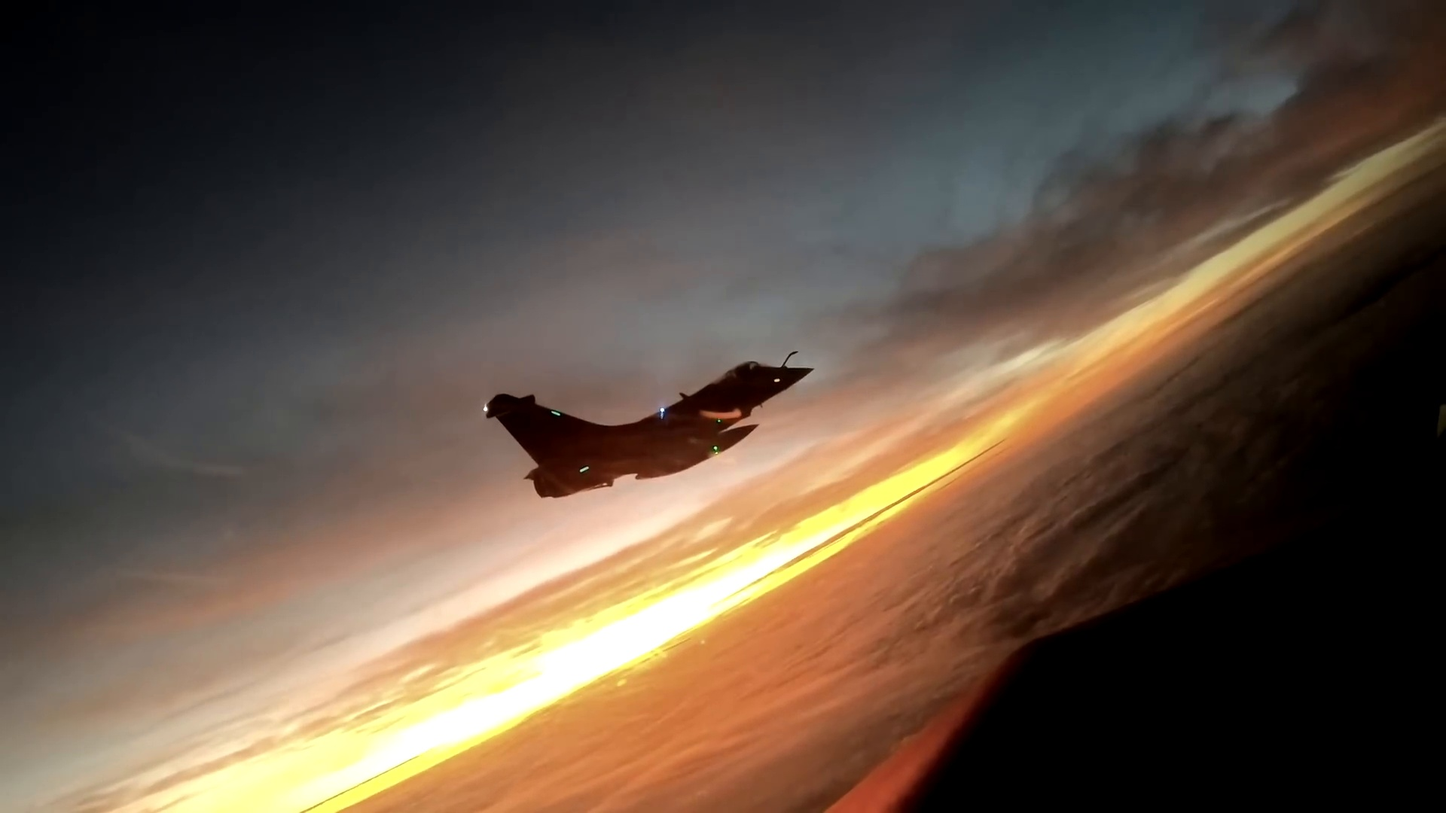Rafale: (484, 351, 812, 500)
